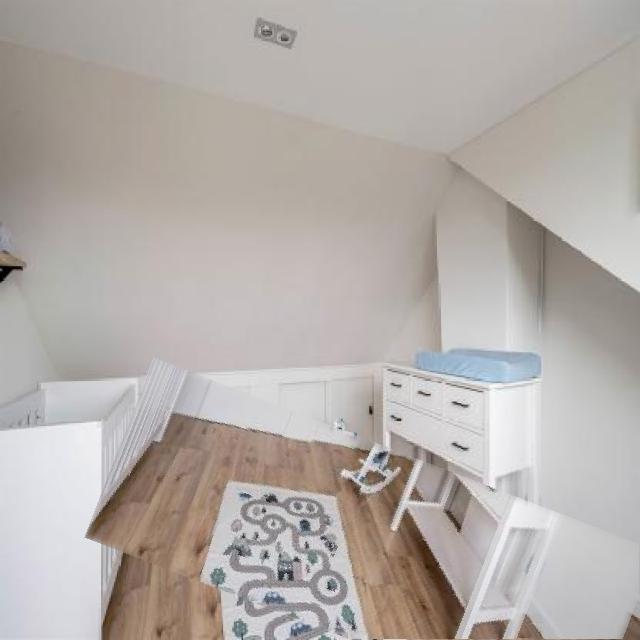floor: (84, 409, 464, 640), (470, 619, 504, 640), (515, 615, 542, 639)
